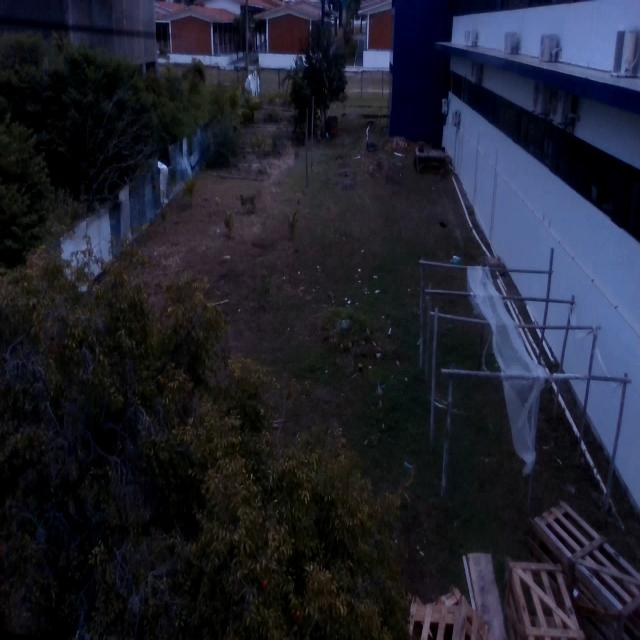-uav-: (312, 0, 363, 41)
